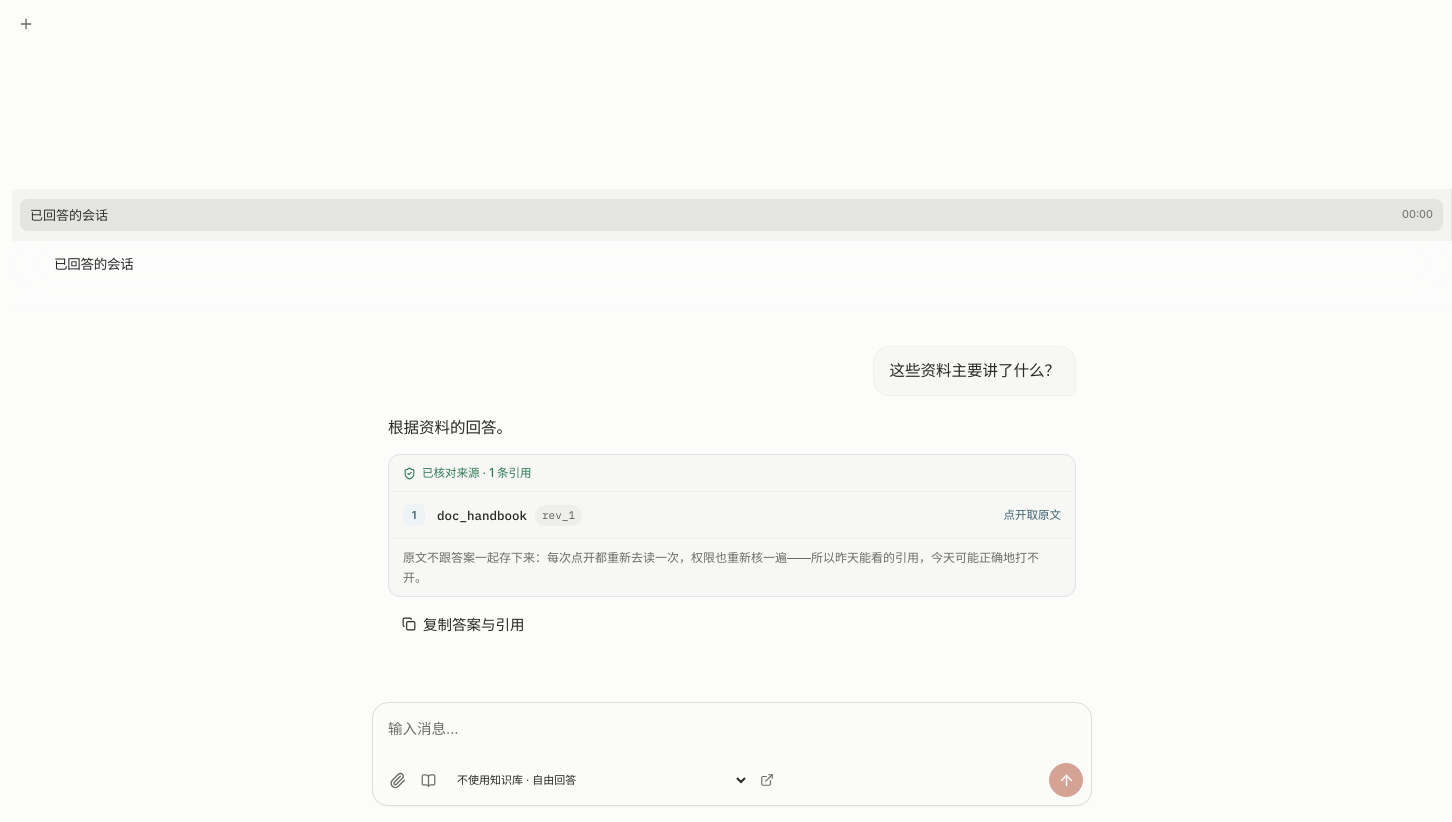
Test: Opening the passage behind a citation › says a row can be opened before anybody opens it
Expected: the text "点开取原文" is shown, [1004,506,1061,525]
Click the button "doc_handbook rev_1 点开取原文" at (482, 515), box [437,504,1061,526]
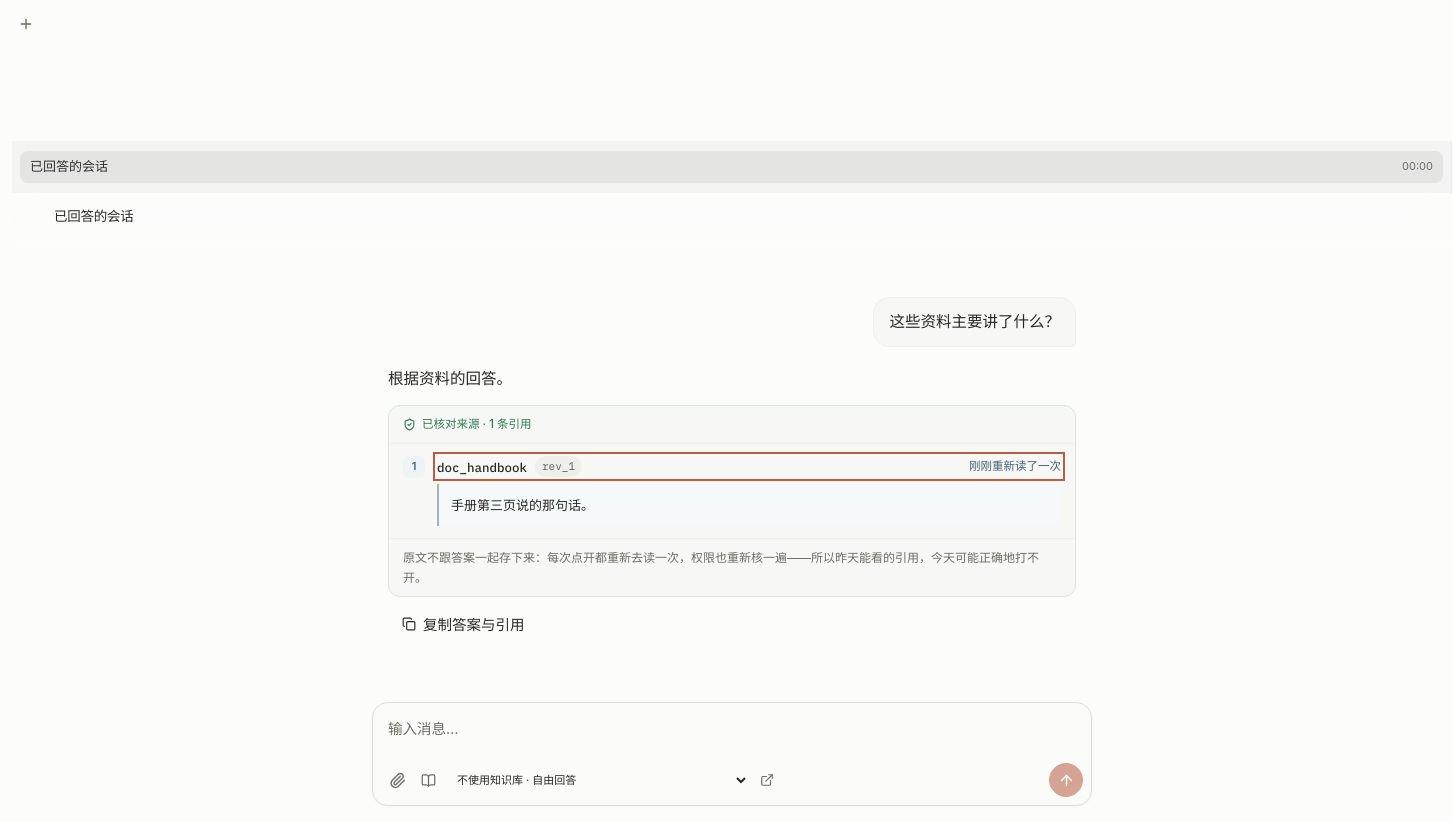
Expected: the text "手册第三页说的那句话。" is shown, [437,484,1061,526]
Expected: the text "点开取原文" is gone
Expected: the text "刚刚重新读了一次" is shown, [969,457,1061,476]
